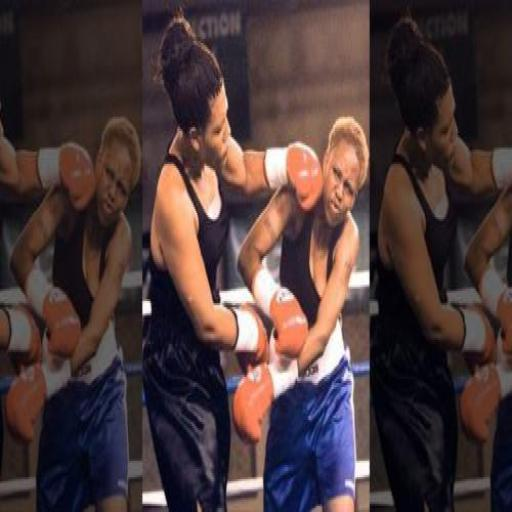boxing: (114, 26, 356, 512)
